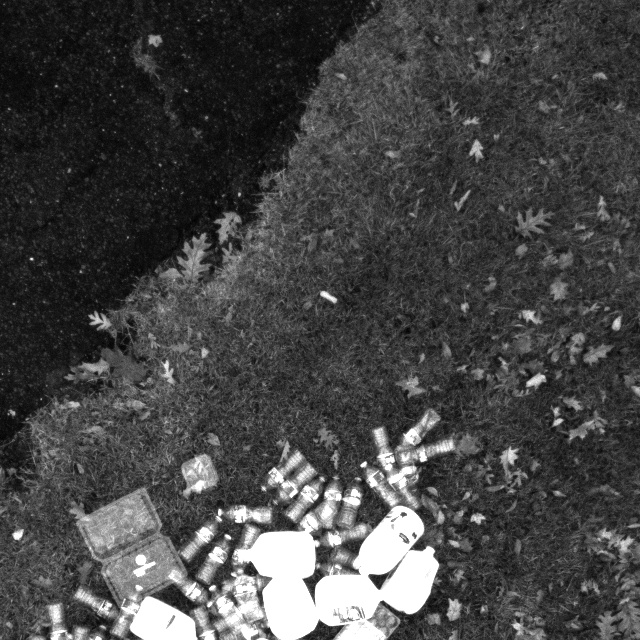bottle: (392, 407, 444, 459), (269, 459, 320, 511), (224, 520, 268, 580), (256, 444, 309, 492), (206, 580, 249, 637), (176, 513, 224, 564), (282, 475, 329, 526), (194, 531, 236, 588), (359, 458, 405, 510), (75, 584, 128, 626), (108, 590, 151, 640), (234, 567, 269, 628), (384, 464, 425, 516), (397, 435, 459, 467), (296, 495, 342, 538), (166, 564, 213, 606), (315, 469, 344, 536), (169, 566, 218, 605), (369, 423, 403, 479), (315, 554, 369, 585), (338, 475, 367, 531), (312, 523, 372, 550), (324, 543, 365, 578), (213, 502, 281, 523)
can: (348, 504, 426, 579), (376, 546, 444, 617), (233, 529, 320, 582), (258, 571, 322, 640), (310, 574, 385, 627)
container: (73, 485, 181, 609), (177, 453, 224, 495)
